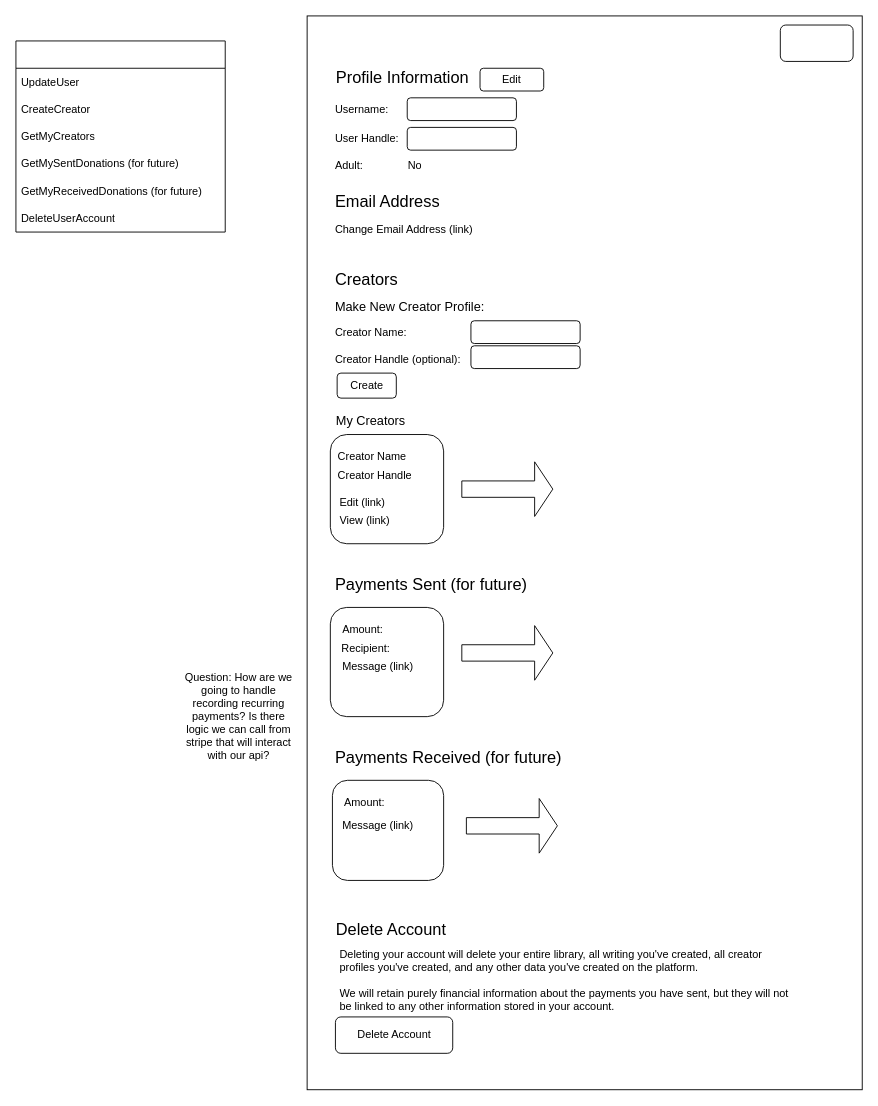
This 878x1106 diagram has some shape labels left out. The box of each missing label's shape, as (x1, y1, x2, y2) in pixels:
Logout: (779, 24, 853, 61)
Query_Handlers: (15, 40, 225, 232)
